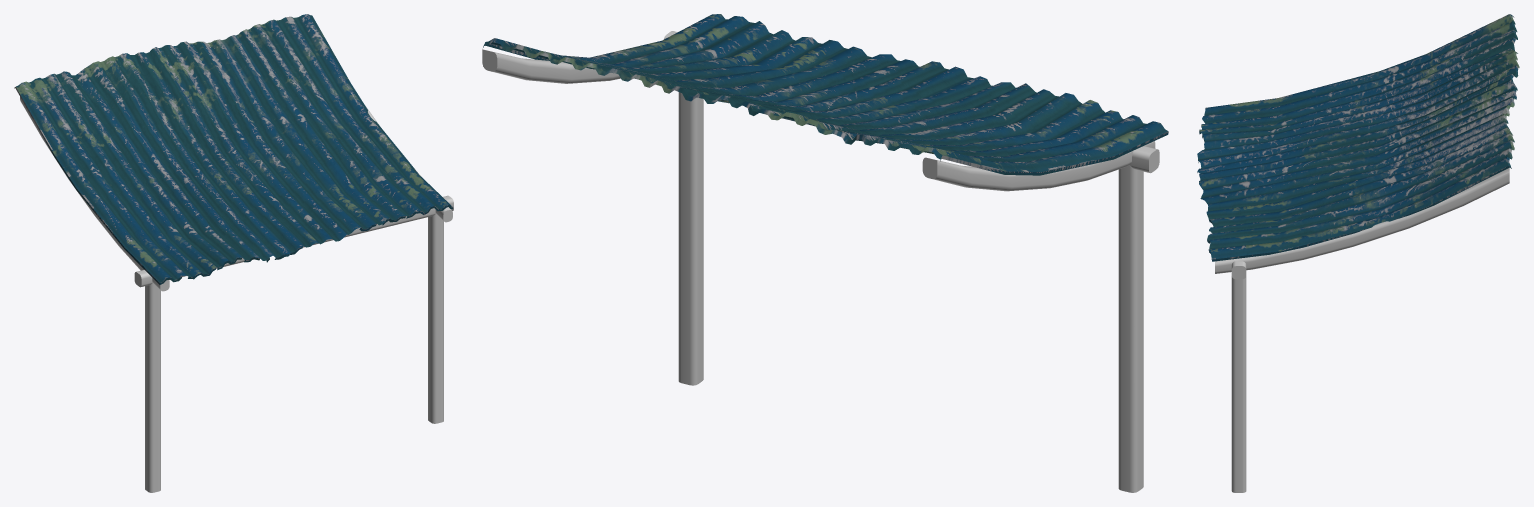
The model's file is SM_RoofSide_01.fbx.
The picture shows the model from 3 angles, left to right: view 1: azimuth 30°, elevation 25°; view 2: azimuth 150°, elevation 25°; view 3: azimuth 270°, elevation 25°; orthographic projection. The views are drawn at different scales.
Parts seen in each view (by area): view 1: RoofSide3; view 2: RoofSide3; view 3: RoofSide3.
Part boxes in pixels (bbox=[...]): RoofSide3: bbox=[14, 14, 453, 492]; RoofSide3: bbox=[482, 14, 1168, 492]; RoofSide3: bbox=[1197, 14, 1519, 492].
Bounding box in the file's own units: 534 × 515 × 454.
